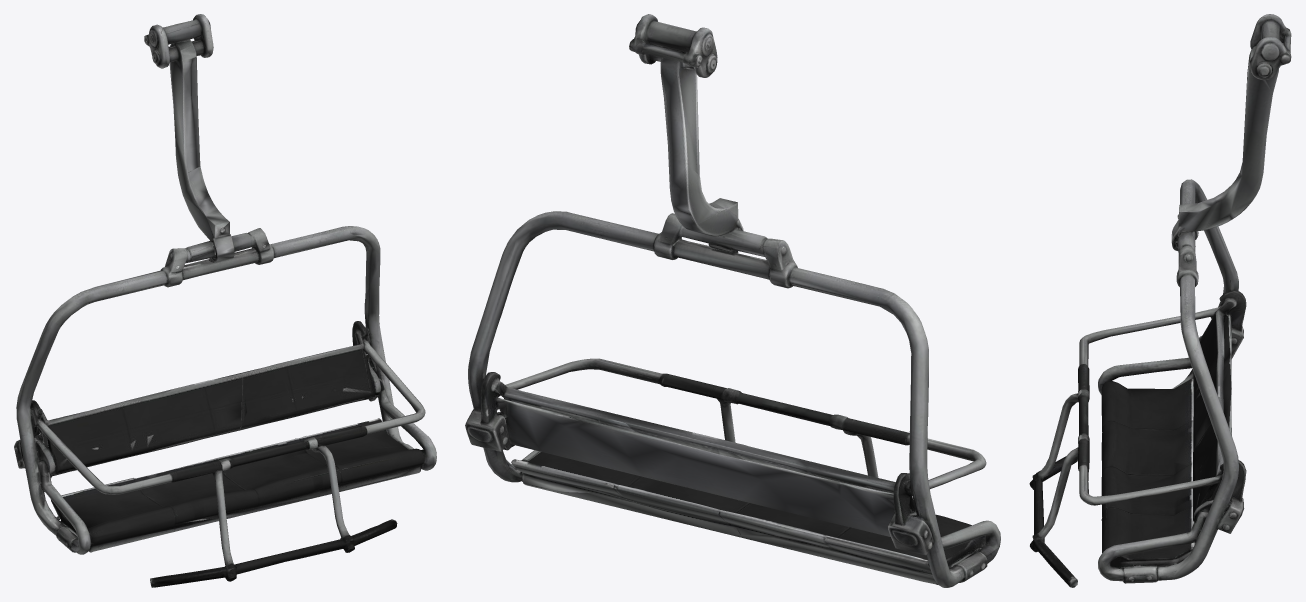
The model's file is kit_chairlift_chair.glb.
The picture shows the model from 3 angles, left to right: view 1: azimuth 30°, elevation 25°; view 2: azimuth 150°, elevation 25°; view 3: azimuth 270°, elevation 25°; orthographic projection. The views are drawn at different scales.
Visible parts, largest first — view 1: Mesh1.0; view 2: Mesh1.0; view 3: Mesh1.0.
Boxes of the visible parts, x1,y1,x2,y2 form: Mesh1.0: (14, 14, 436, 587); Mesh1.0: (465, 14, 1000, 587); Mesh1.0: (1029, 14, 1291, 587).
Size of the model in its own units: 1.54 by 1.9 by 0.9035.
Materials: 1 (1 with a texture image).
